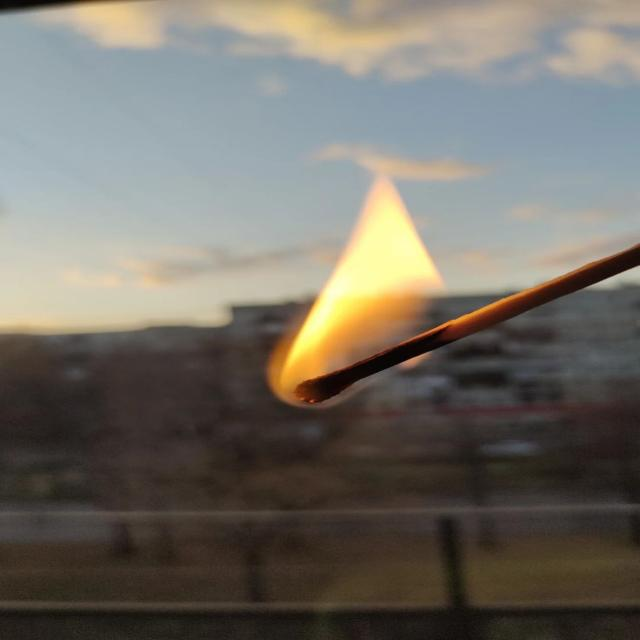fire: (273, 177, 447, 410)
